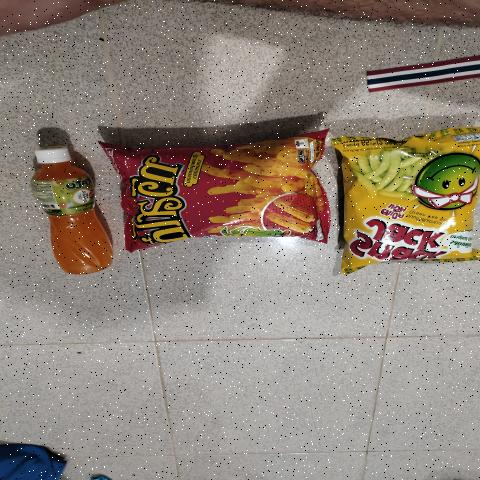snack_jack: (341, 119, 480, 264)
twisco: (131, 134, 327, 246)
